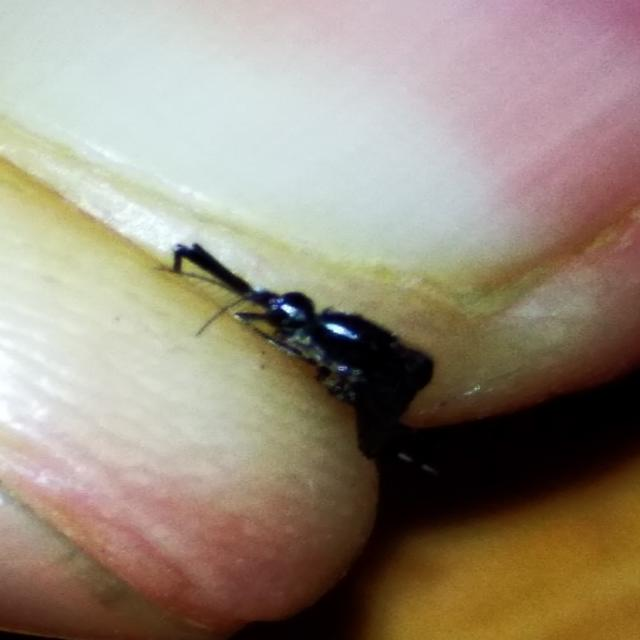albopictus: (146, 216, 504, 515)
